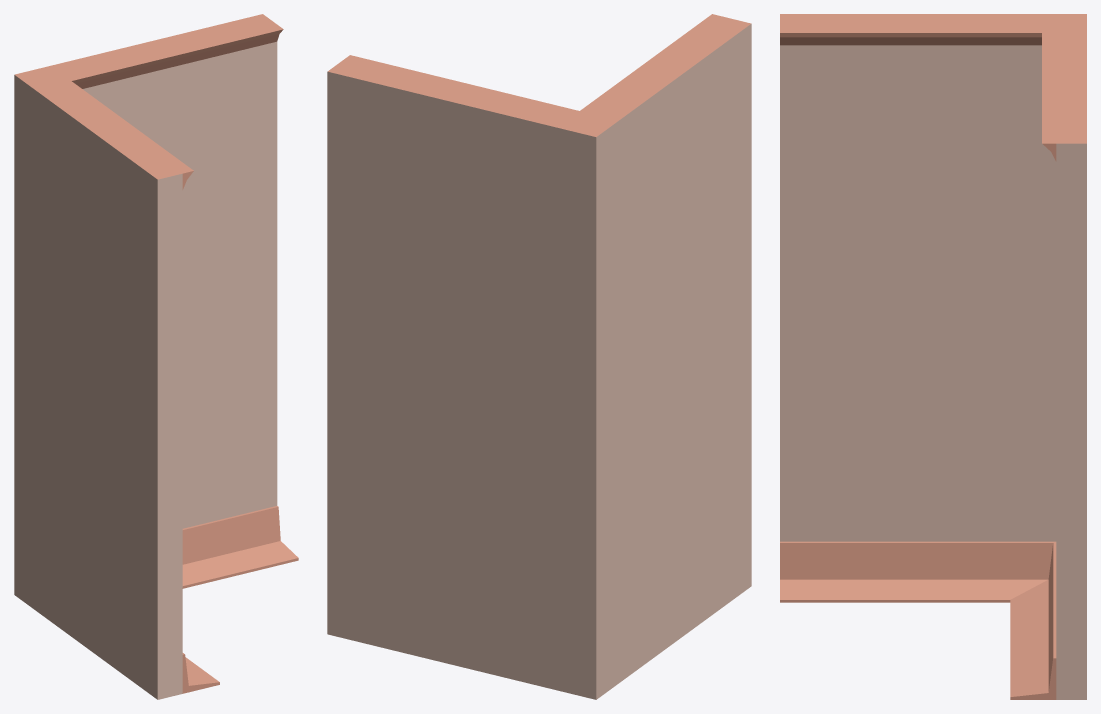
File: wall1corner.glb
3 renders of one model, left to right at view 1: azimuth 30°, elevation 25°; view 2: azimuth 150°, elevation 25°; view 3: azimuth 270°, elevation 25°, orthographic. The views are drawn at different scales.
Parts seen in each view (by area): view 1: WallBigCorner1; view 2: WallBigCorner1; view 3: WallBigCorner1.
Boxes of the visible parts, x1,y1,x2,y2 form: WallBigCorner1: [14, 14, 298, 699]; WallBigCorner1: [327, 14, 751, 699]; WallBigCorner1: [780, 14, 1086, 699].
Size of the model in its own units: 2 by 4 by 2.
Materials: 1 (1 with a texture image).
